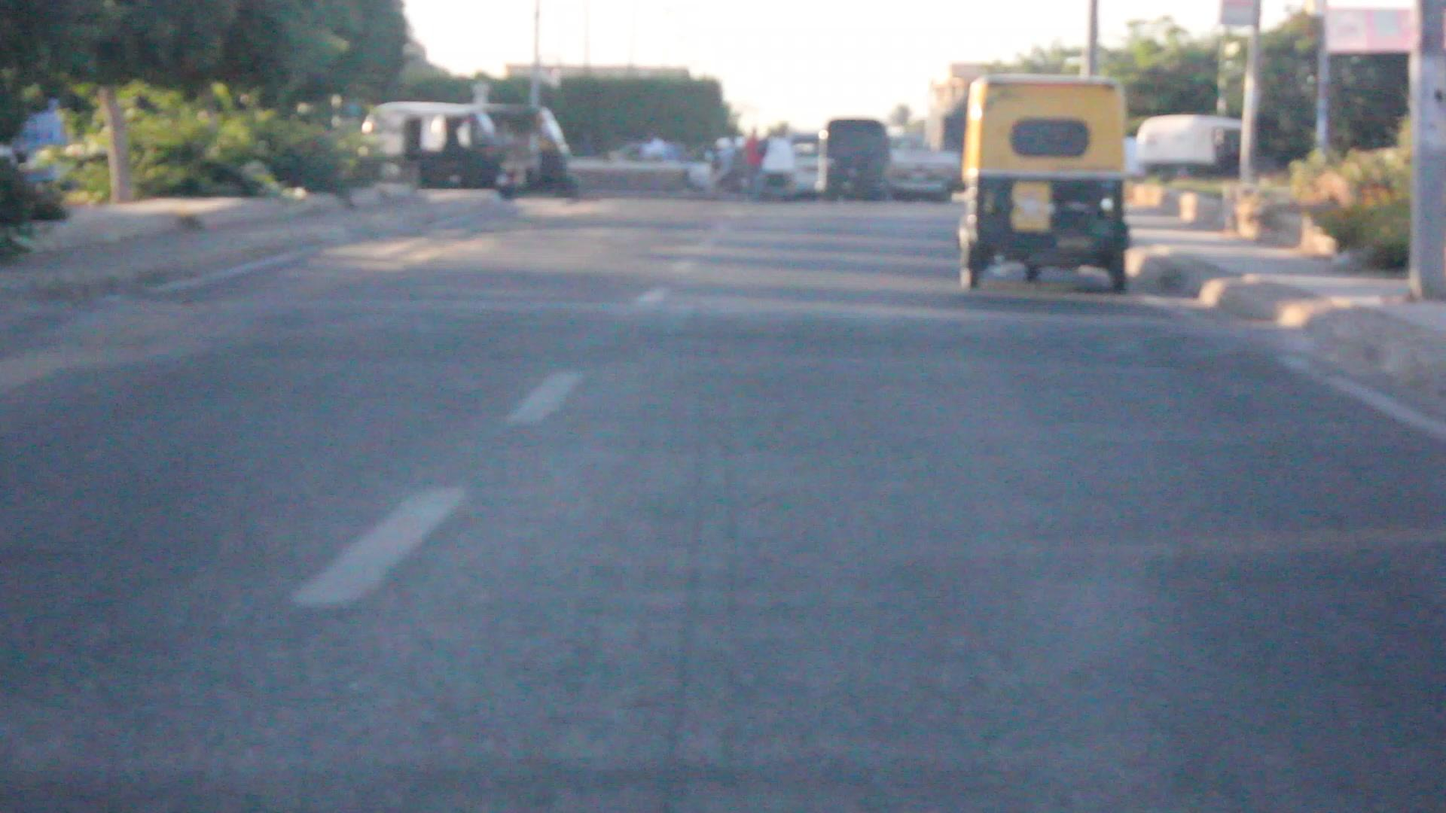Bump: (105, 273, 1320, 371)
